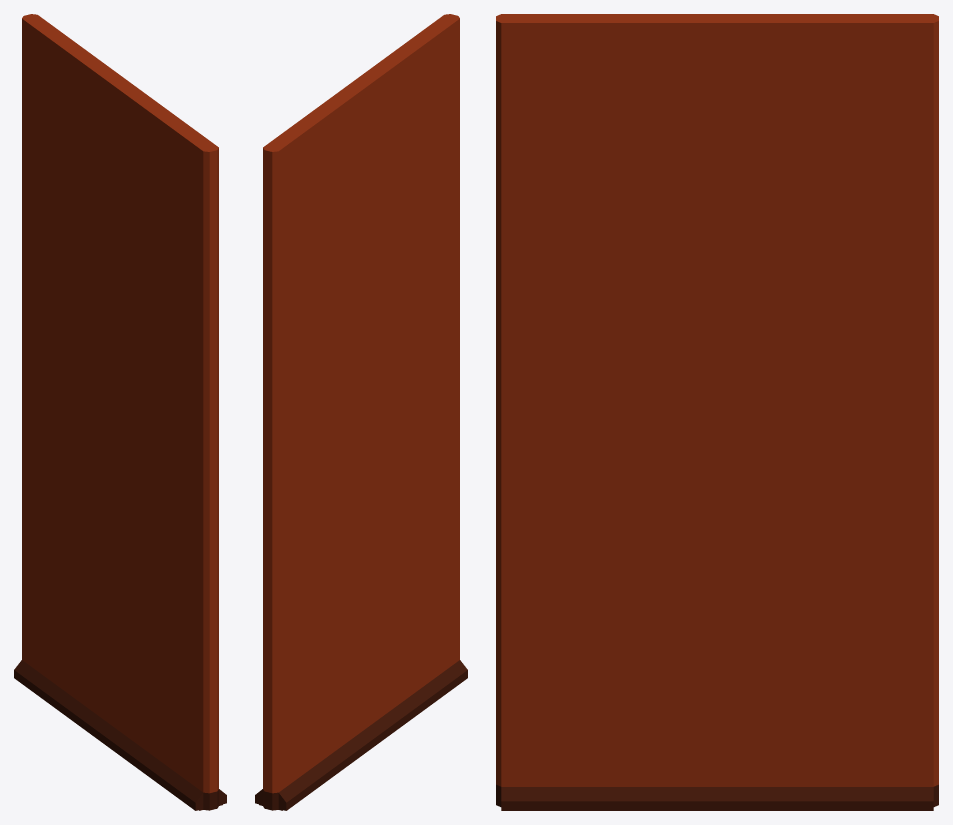
Rendered from Wall_1-0.fbx.
3 views of the same model, side by side, from view 1: azimuth 30°, elevation 25°; view 2: azimuth 150°, elevation 25°; view 3: azimuth 270°, elevation 25° (orthographic). The views are drawn at different scales.
Parts seen in each view (by area): view 1: Wall_1-0; view 2: Wall_1-0; view 3: Wall_1-0.
Boxes of the visible parts, left/top/right/bottom form: Wall_1-0: left=14, top=14, right=226, bottom=810; Wall_1-0: left=255, top=14, right=467, bottom=810; Wall_1-0: left=496, top=14, right=938, bottom=810.
Size of the model in its own units: 0.4 by 4.1 by 8.01.
